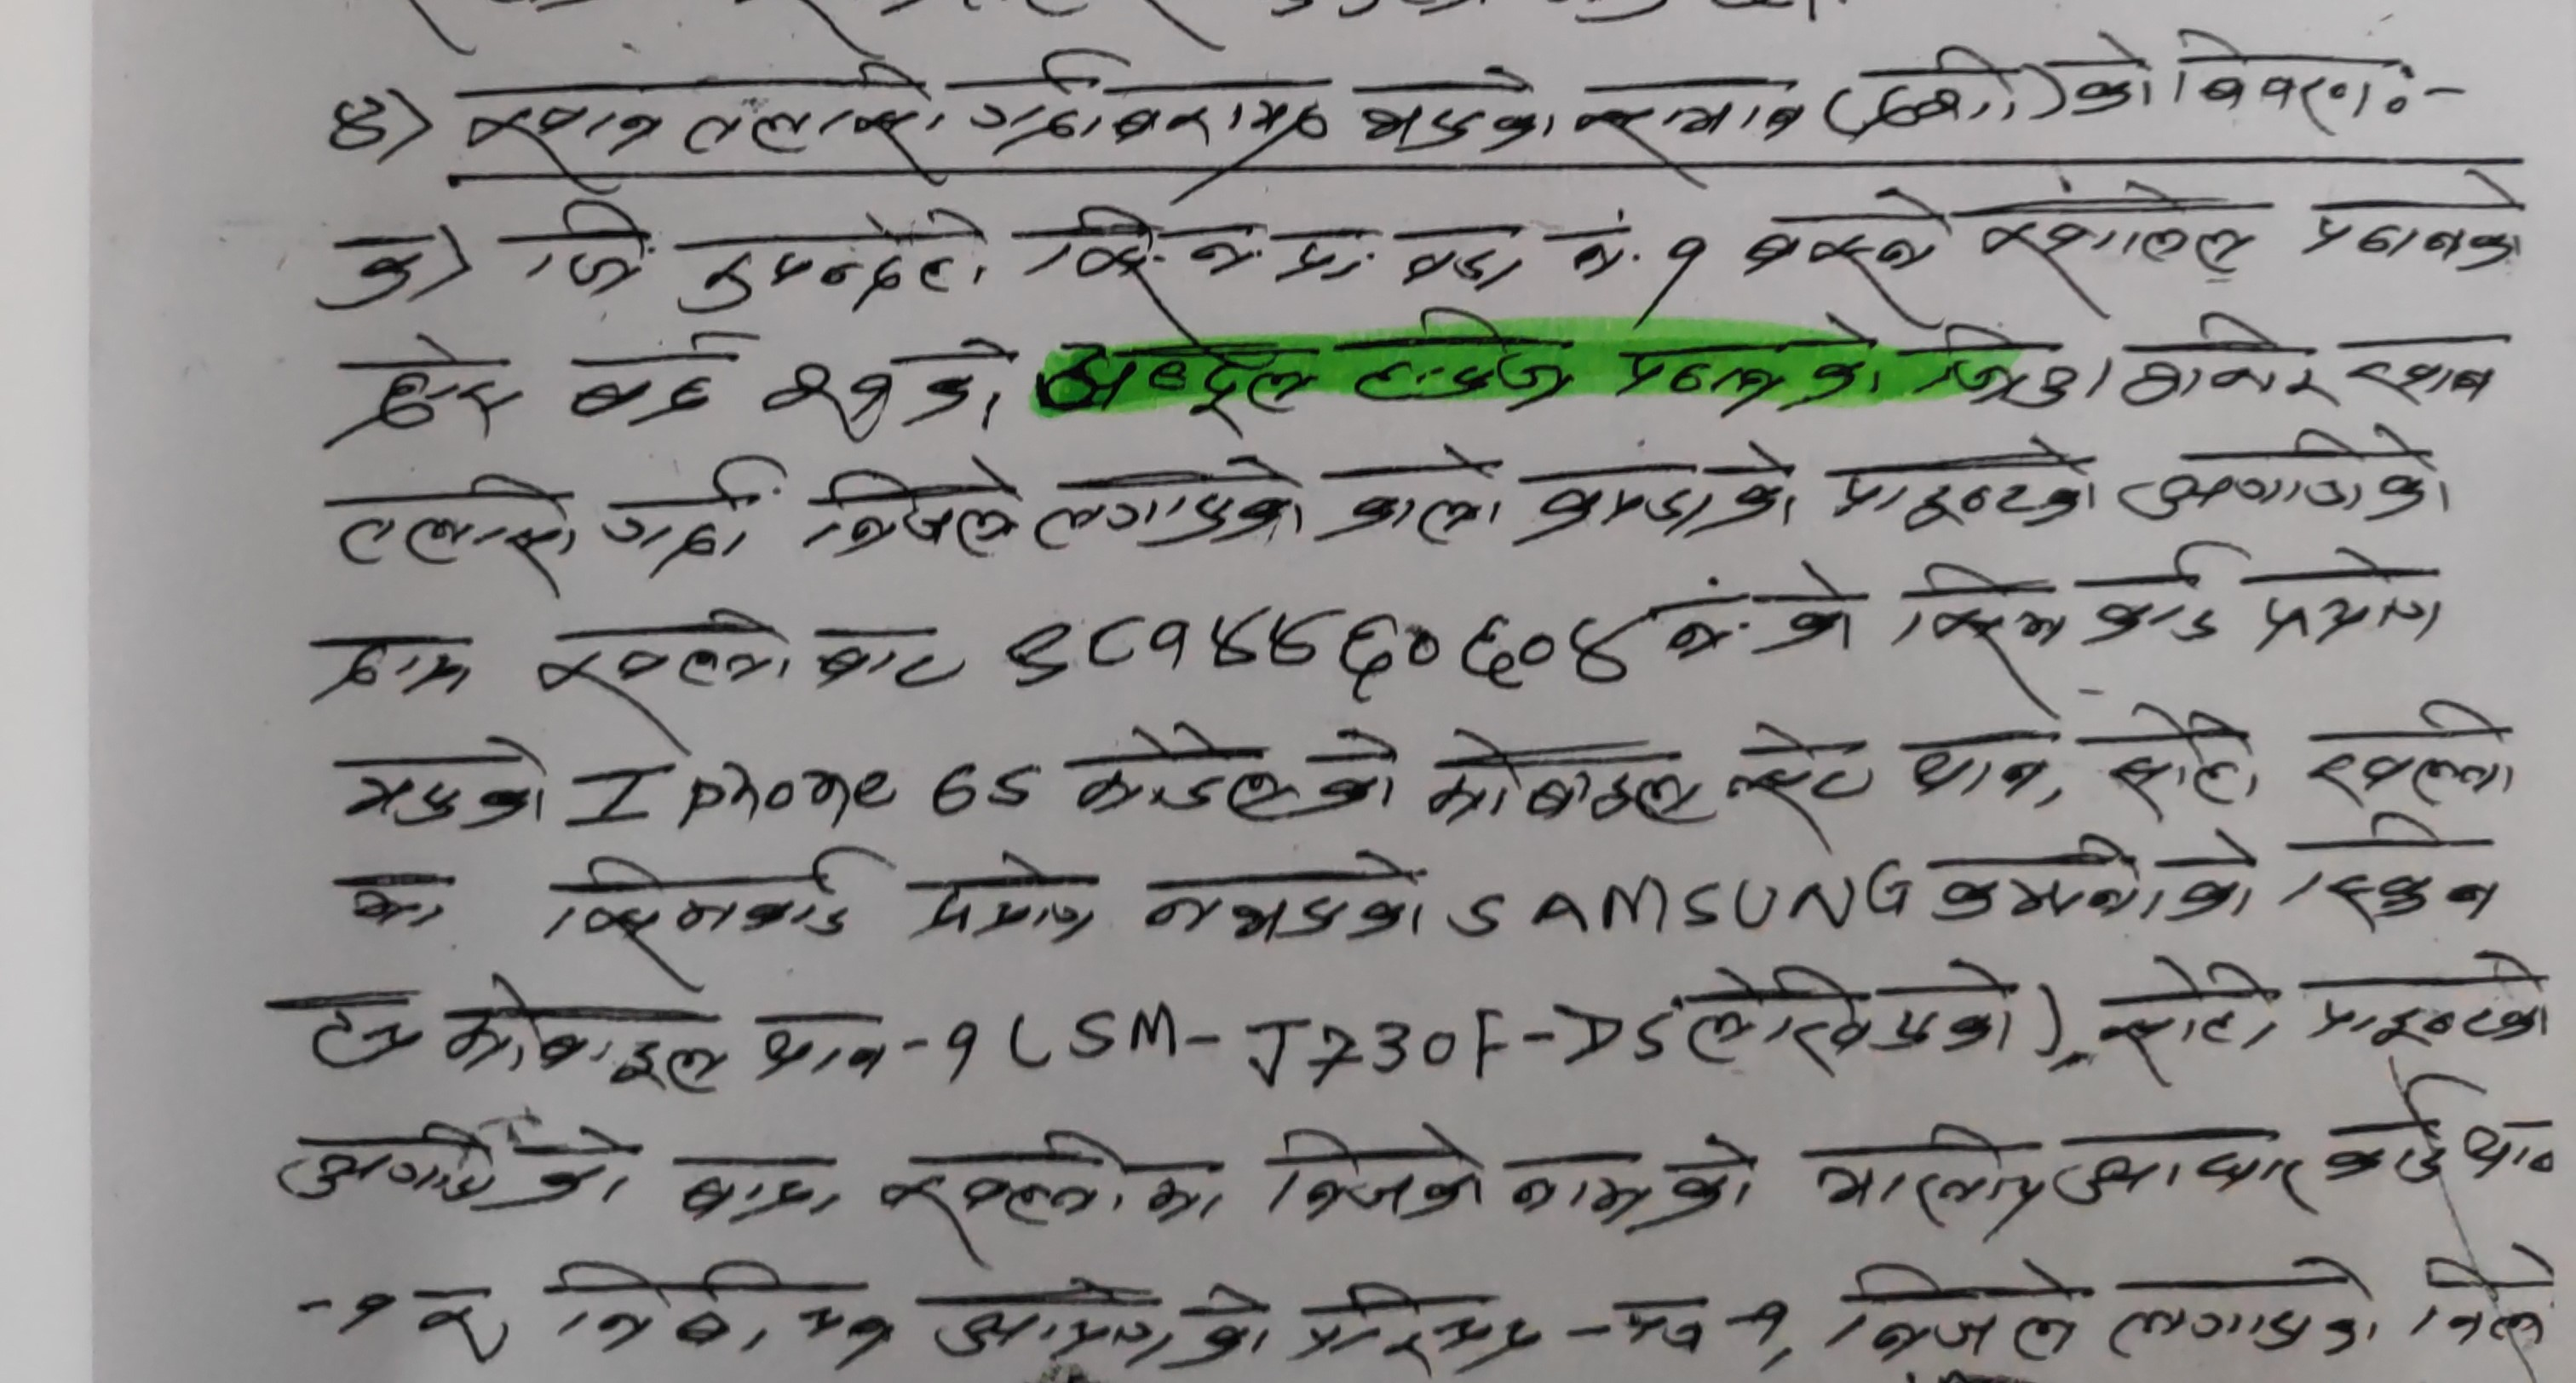text: (995, 603, 1641, 698), (460, 51, 952, 167), (872, 1126, 1242, 1274), (533, 603, 975, 726), (540, 1248, 901, 1383), (538, 845, 888, 976), (961, 46, 1332, 164), (1676, 955, 2024, 1080), (917, 1264, 1278, 1383), (1820, 31, 2160, 157), (436, 962, 731, 1104), (264, 1110, 646, 1218), (1929, 824, 2264, 944), (675, 198, 995, 318), (2116, 419, 2464, 530), (1065, 712, 1406, 824), (1969, 181, 2264, 308), (1036, 320, 1315, 450), (2102, 1248, 2389, 1373), (1019, 443, 1312, 562), (1509, 438, 1804, 555), (1022, 206, 1385, 300), (1131, 838, 1435, 949), (331, 472, 583, 603), (1826, 1250, 2092, 1369), (1421, 720, 1711, 826), (1509, 1121, 1762, 1242), (2085, 944, 2286, 1093), (1343, 301, 1574, 429), (1820, 436, 2109, 538), (1804, 1121, 2048, 1242), (2266, 811, 2501, 935), (2302, 947, 2562, 1054), (1739, 184, 1954, 313), (1286, 1276, 1542, 1383), (2164, 19, 2380, 145), (1612, 313, 1888, 412), (2293, 170, 2535, 283), (797, 451, 1026, 569), (589, 451, 791, 584), (327, 727, 554, 843), (2302, 693, 2528, 809), (1889, 554, 2073, 693), (1264, 1119, 1496, 1230), (324, 332, 533, 453), (2053, 1124, 2307, 1223), (2125, 312, 2341, 426), (554, 327, 753, 450), (2237, 543, 2457, 652), (1314, 438, 1506, 557), (1721, 714, 1877, 855), (1349, 58, 1561, 158), (910, 848, 1111, 954), (2309, 1066, 2467, 1196), (2075, 535, 2242, 654), (2106, 698, 2269, 819), (1567, 78, 1813, 158), (1898, 720, 2079, 819), (750, 346, 903, 453), (668, 1143, 848, 1231), (521, 191, 658, 307), (279, 983, 428, 1085), (896, 327, 1024, 443), (1932, 318, 2089, 412), (2341, 327, 2515, 410), (746, 1001, 893, 1095), (313, 628, 477, 709), (1387, 221, 1533, 307), (1753, 560, 1860, 668), (1647, 571, 1748, 669), (310, 233, 428, 313), (331, 865, 453, 942), (1557, 203, 1639, 295), (324, 89, 395, 167), (1647, 230, 1712, 308)
